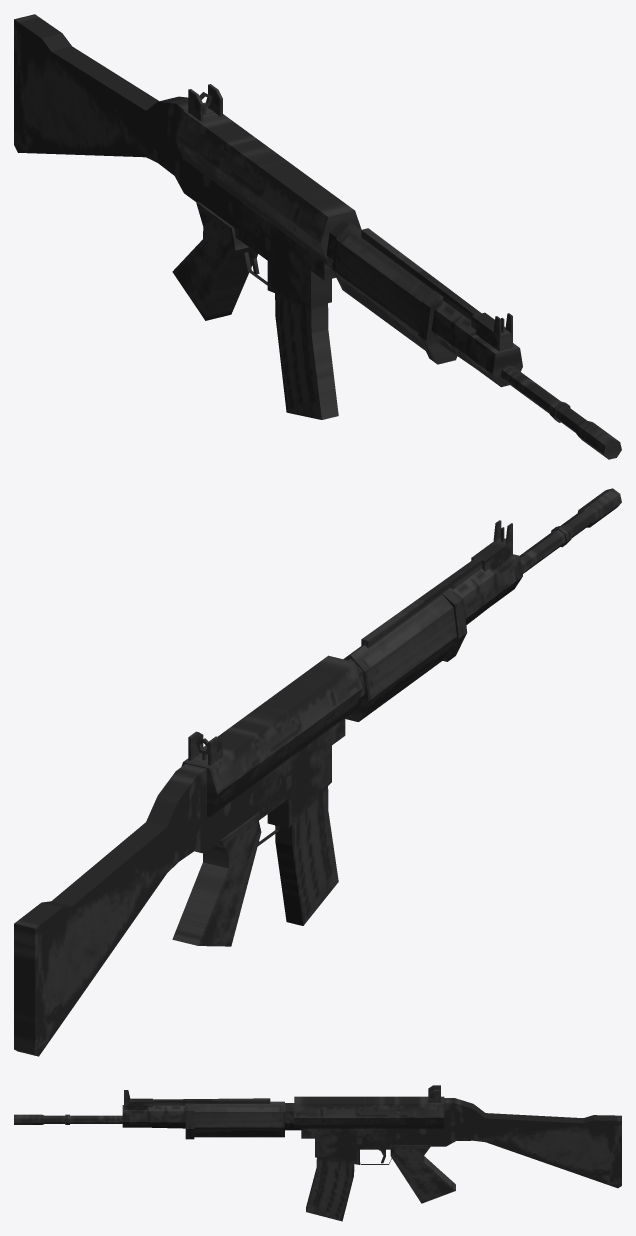
Rendered from DefRifle.fbx.
3 renders of one model, top to bottom at view 1: azimuth 30°, elevation 25°; view 2: azimuth 150°, elevation 25°; view 3: azimuth 270°, elevation 25°, orthographic. The views are drawn at different scales.
Parts seen in each view (by area): view 1: Rifle; view 2: Rifle; view 3: Rifle.
Boxes of the visible parts, <box> form: Rifle: <box>14,14,621,459</box>; Rifle: <box>14,488,621,1056</box>; Rifle: <box>14,1085,621,1221</box>.
Size of the model in its own units: 4.11 by 23.74 by 99.67.
